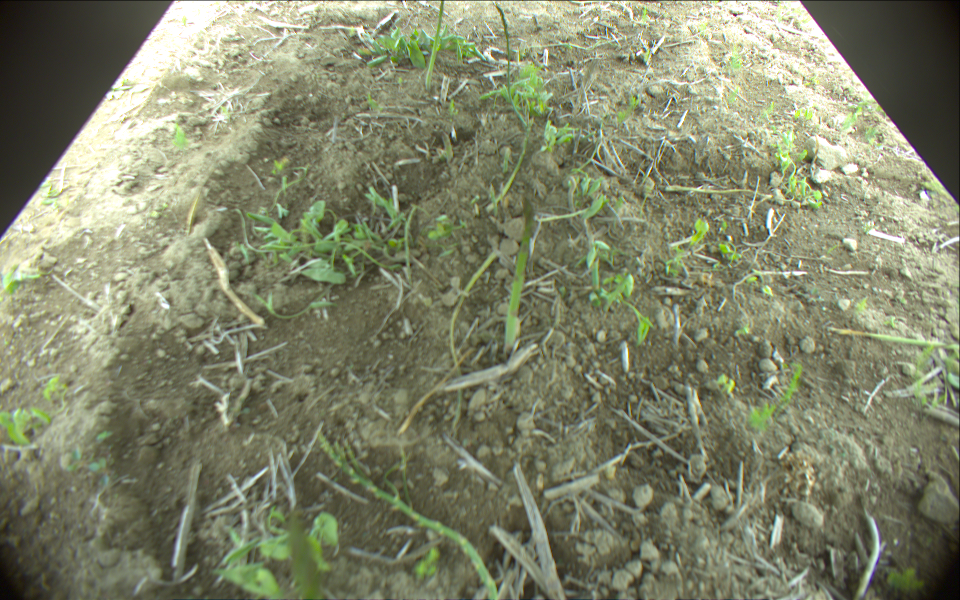aspa: (317, 432, 497, 600), (447, 250, 499, 432), (503, 193, 535, 355), (488, 120, 533, 212), (496, 5, 526, 129), (829, 327, 960, 352), (667, 184, 795, 202), (425, 1, 445, 90)
